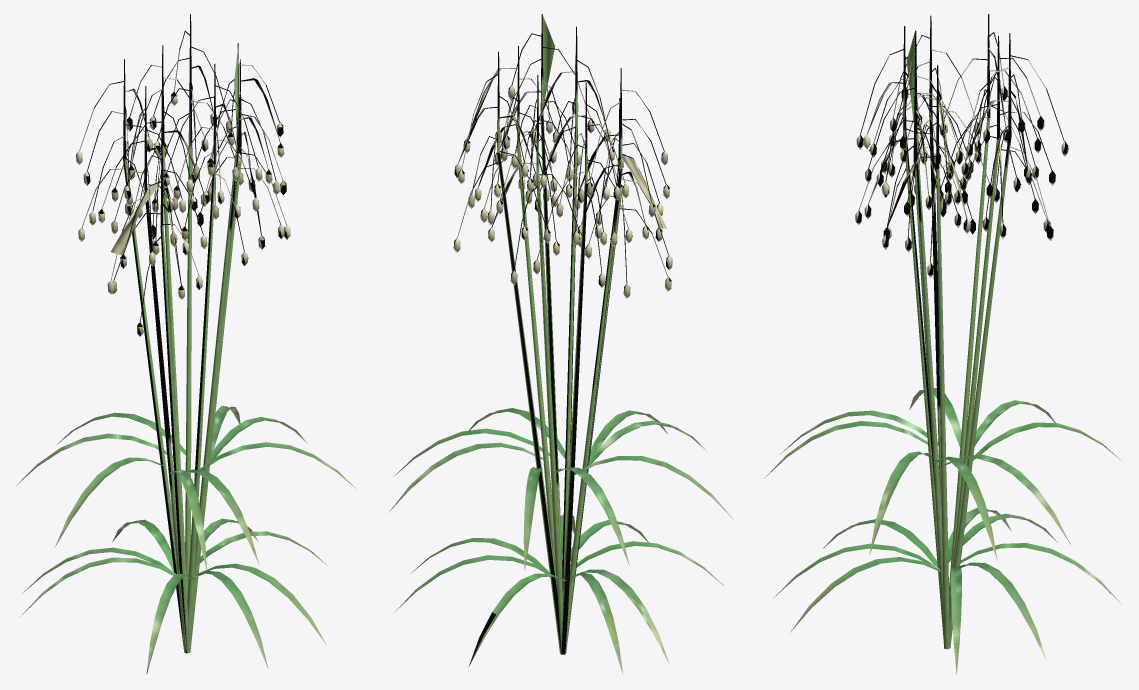
The model's file is avena.glb.
3 renders of one model, left to right at view 1: azimuth 30°, elevation 25°; view 2: azimuth 150°, elevation 25°; view 3: azimuth 270°, elevation 25°, orthographic. The views are drawn at different scales.
Visible parts, largest first — view 1: avena, avena_lp; view 2: avena, avena_lp; view 3: avena, avena_lp.
Boxes of the visible parts, left/top/right/bottom form: avena: left=16, top=14, right=356, bottom=674; avena_lp: left=78, top=31, right=286, bottom=652; avena: left=389, top=14, right=733, bottom=674; avena_lp: left=455, top=15, right=671, bottom=653; avena: left=764, top=14, right=1122, bottom=674; avena_lp: left=857, top=31, right=1068, bottom=648.
Bounding box in the file's own units: 0.629 × 1.23 × 0.6351.
Materials: 2 (2 with a texture image).
